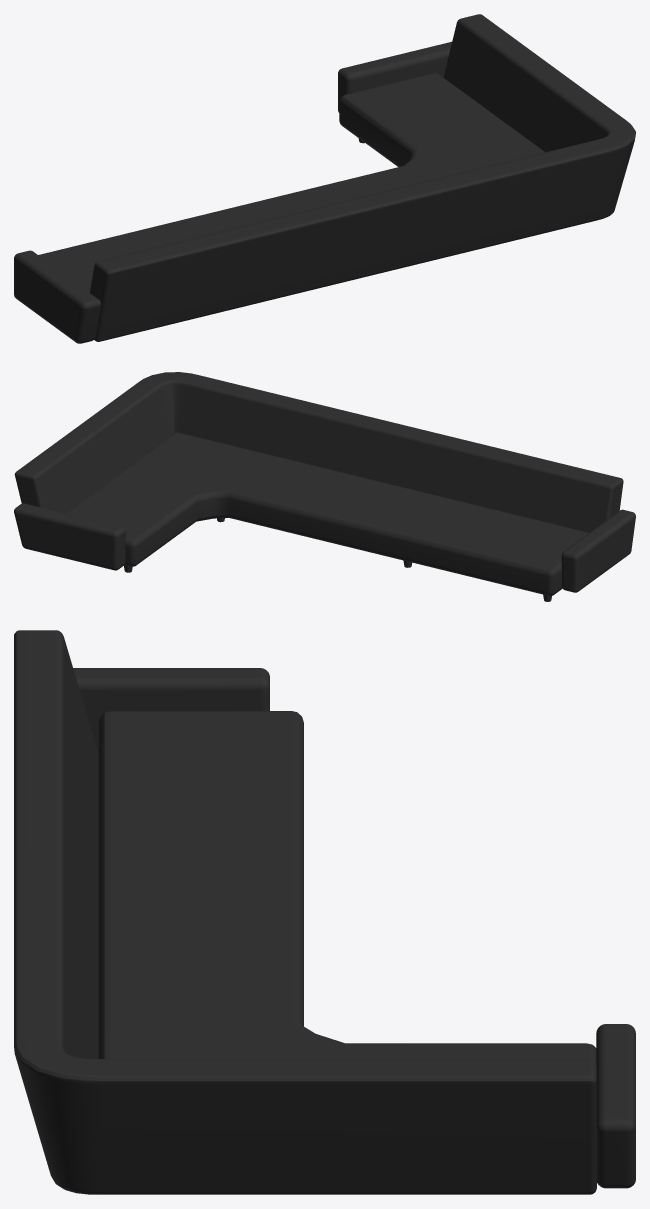
Rendered from fbx_sofa_2.fbx.
3 views of the same model, one above another, from view 1: azimuth 30°, elevation 25°; view 2: azimuth 150°, elevation 25°; view 3: azimuth 270°, elevation 25° (orthographic). The views are drawn at different scales.
Visible parts, largest first — view 1: fbx_sofa_2; view 2: fbx_sofa_2; view 3: fbx_sofa_2.
Part boxes in pixels (box(x1,y1,x2,y2)): fbx_sofa_2: box(14, 14, 635, 343); fbx_sofa_2: box(14, 372, 635, 601); fbx_sofa_2: box(14, 630, 635, 1194).
Bounding box in the file's own units: 5.37 × 0.8349 × 3.03.
Materials: 1 (1 with a texture image).
